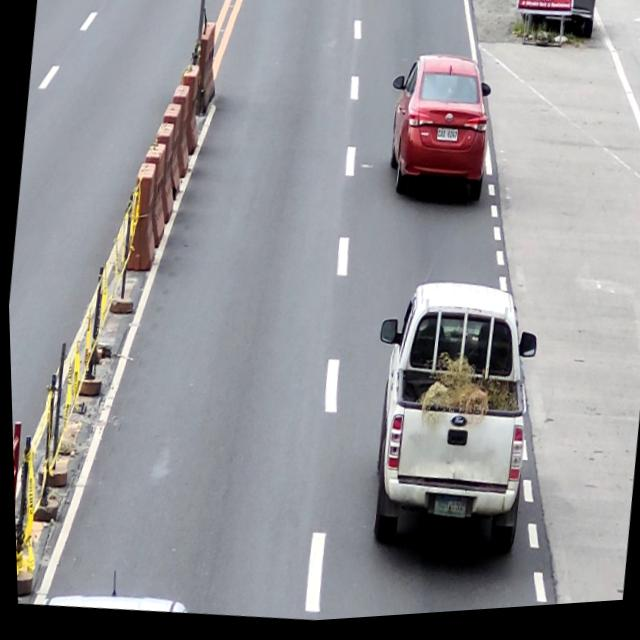Car: (351, 274, 546, 575), (377, 52, 498, 216)
License-Plate: (430, 497, 464, 525), (434, 132, 457, 148)
